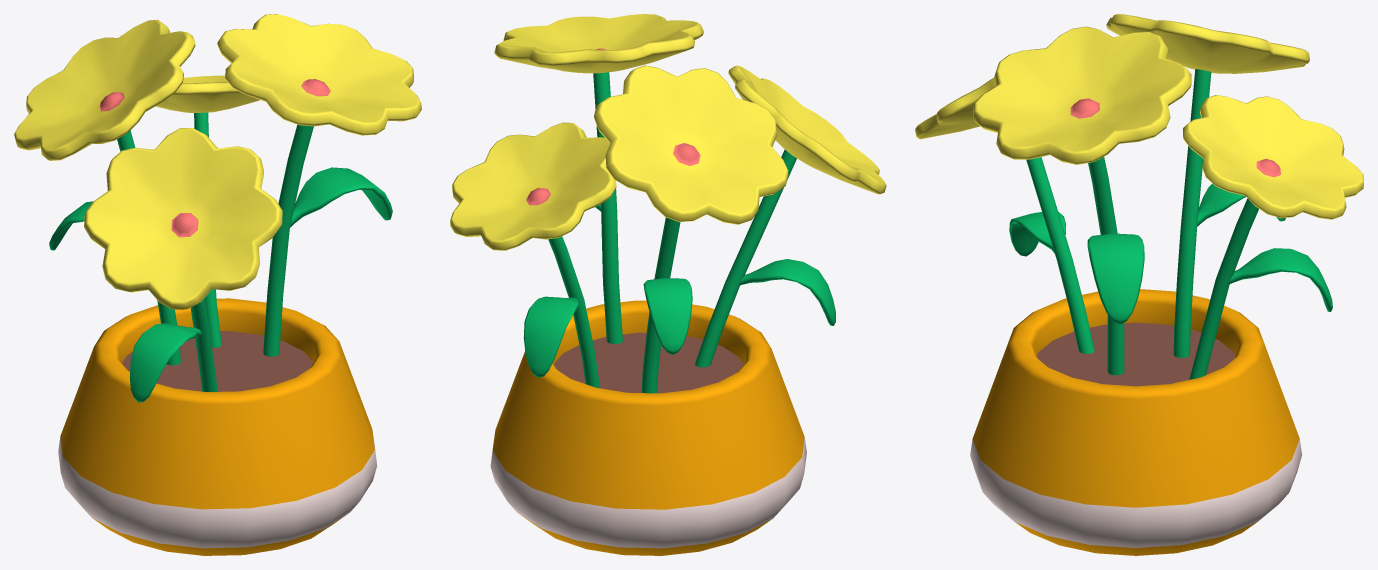
The model's file is City_10_Flower_2.glb.
The picture shows the model from 3 angles, left to right: view 1: azimuth 30°, elevation 25°; view 2: azimuth 150°, elevation 25°; view 3: azimuth 270°, elevation 25°; orthographic projection. The views are drawn at different scales.
Visible parts, largest first — view 1: City_10_Flower_2; view 2: City_10_Flower_2; view 3: City_10_Flower_2.
Boxes of the visible parts, x1,y1,x2,y2 form: City_10_Flower_2: (14,14,421,555); City_10_Flower_2: (450,14,886,555); City_10_Flower_2: (915,14,1363,555).
Size of the model in its own units: 1.36 by 1.75 by 1.49.
Materials: 1 (1 with a texture image).
